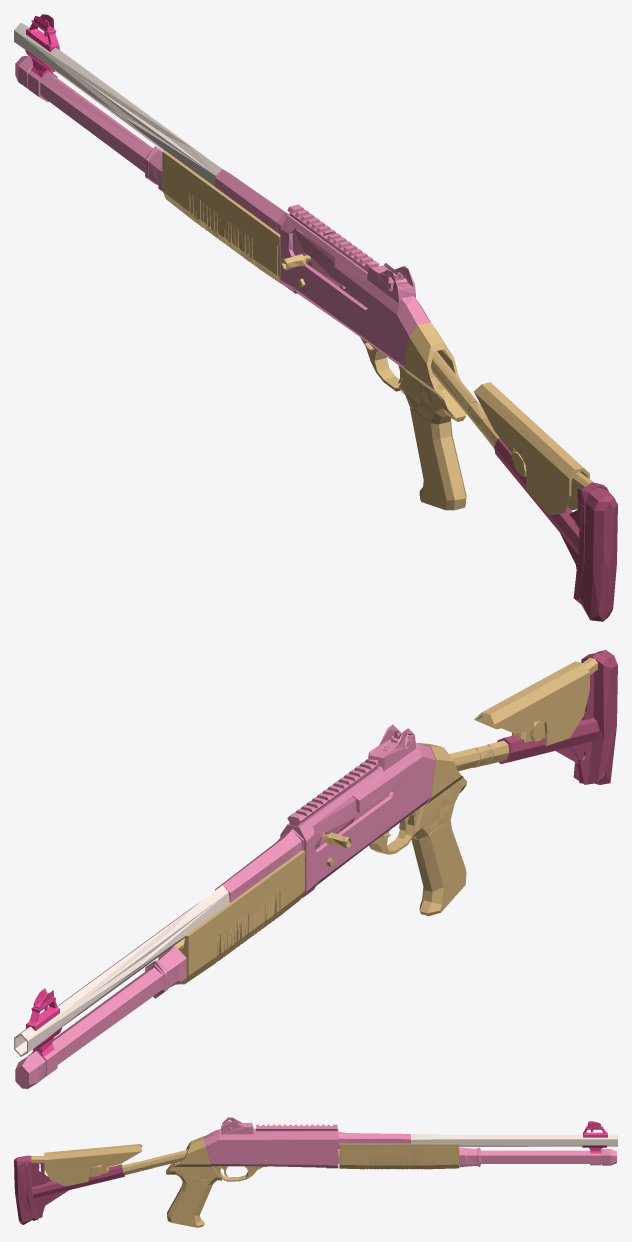
Rendered from Shotgun_BenelliM4.obj.
3 renders of one model, top to bottom at view 1: azimuth 30°, elevation 25°; view 2: azimuth 150°, elevation 25°; view 3: azimuth 270°, elevation 25°, orthographic. The views are drawn at different scales.
Visible parts, largest first — view 1: Hardware, Body, Grip, Panel, Accent; view 2: Hardware, Body, Grip, Panel, Accent; view 3: Hardware, Body, Grip, Panel, Accent.
Part boxes in pixels (bbox=[...]): Hardware: bbox=[162, 151, 593, 515]; Body: bbox=[15, 56, 430, 369]; Grip: bbox=[494, 438, 617, 621]; Panel: bbox=[14, 22, 221, 186]; Accent: bbox=[25, 14, 59, 77]; Hardware: bbox=[171, 657, 597, 984]; Body: bbox=[15, 724, 435, 1088]; Grip: bbox=[497, 650, 617, 784]; Panel: bbox=[14, 885, 229, 1056]; Accent: bbox=[26, 988, 62, 1056]; Hardware: bbox=[31, 1136, 459, 1227]; Body: bbox=[204, 1117, 616, 1168]; Grip: bbox=[14, 1155, 124, 1224]; Panel: bbox=[411, 1134, 617, 1146]; Accent: bbox=[582, 1121, 607, 1153].
Bounding box in the file's own units: 0.1314 × 0.5631 × 2.9.
